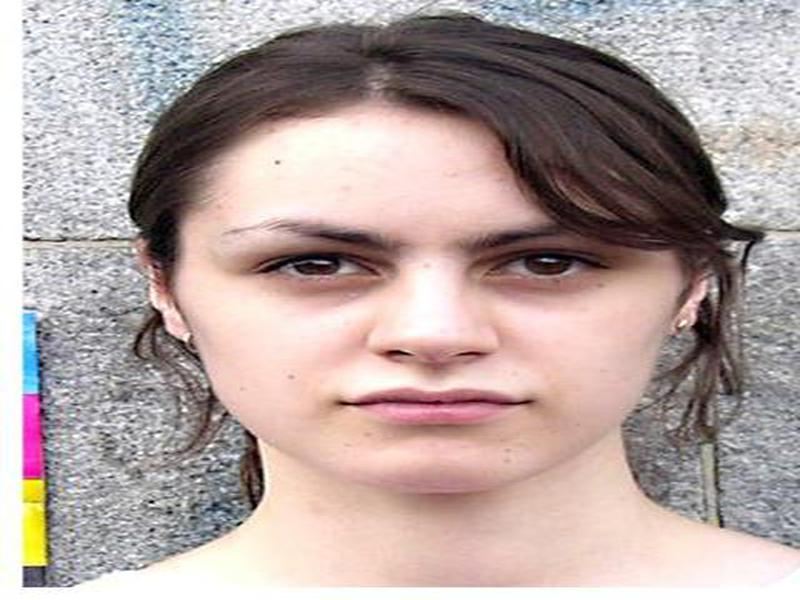without_mask: (168, 174, 672, 497)
